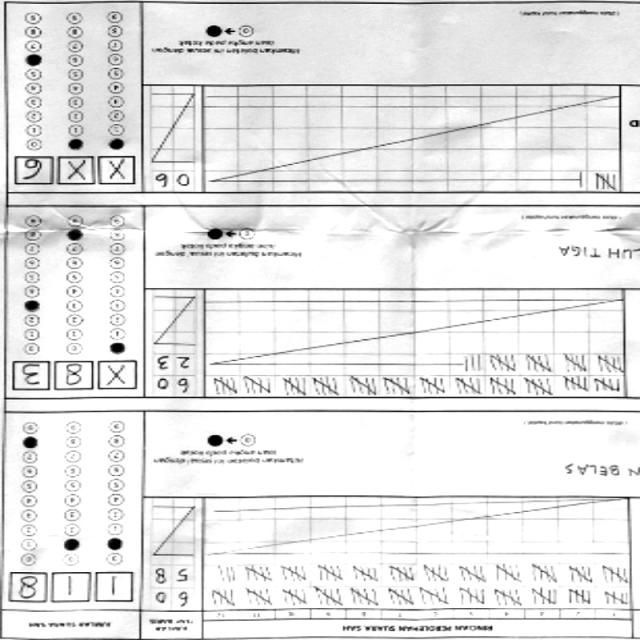Suara: (4, 568, 138, 610), (8, 358, 142, 399), (10, 149, 144, 190)
